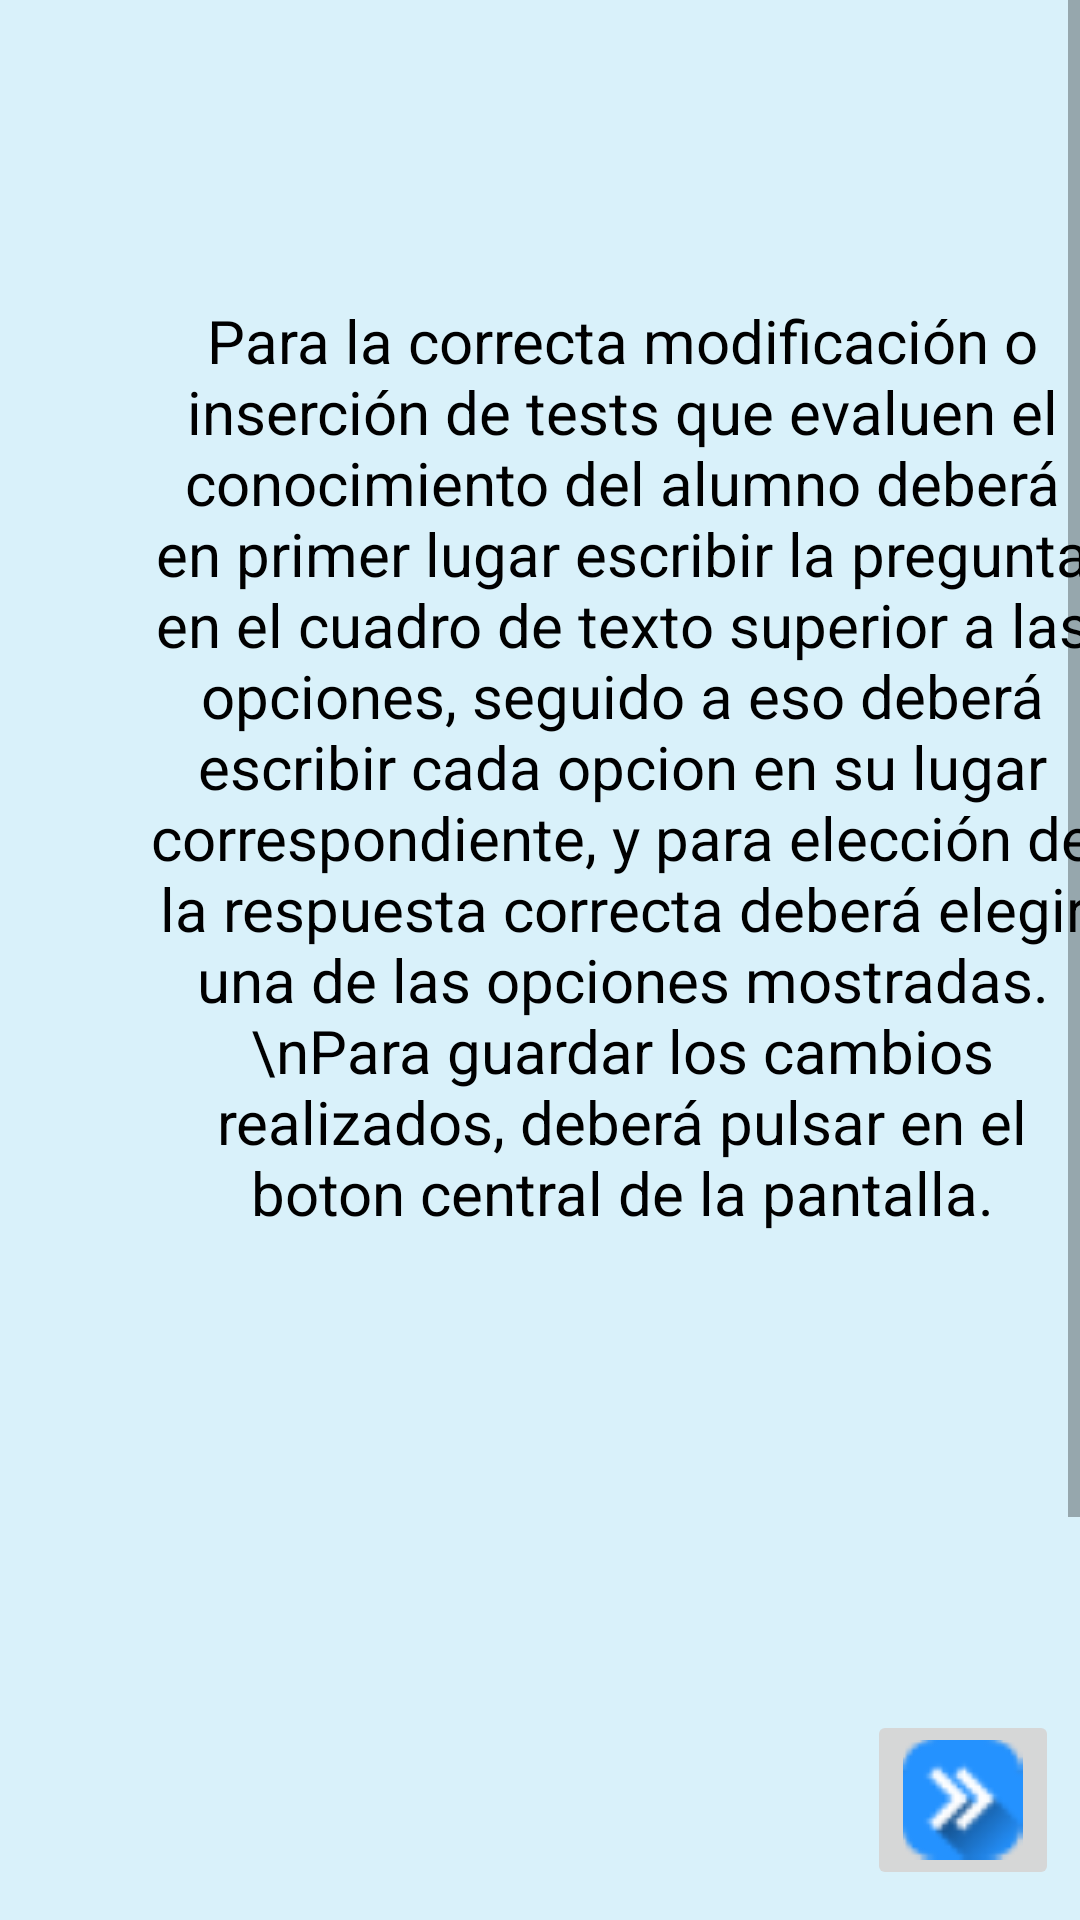

Point at icon controls on the screen. Image size 1080 x 1920, points as [x,y].
siguiente: [963,1800]
